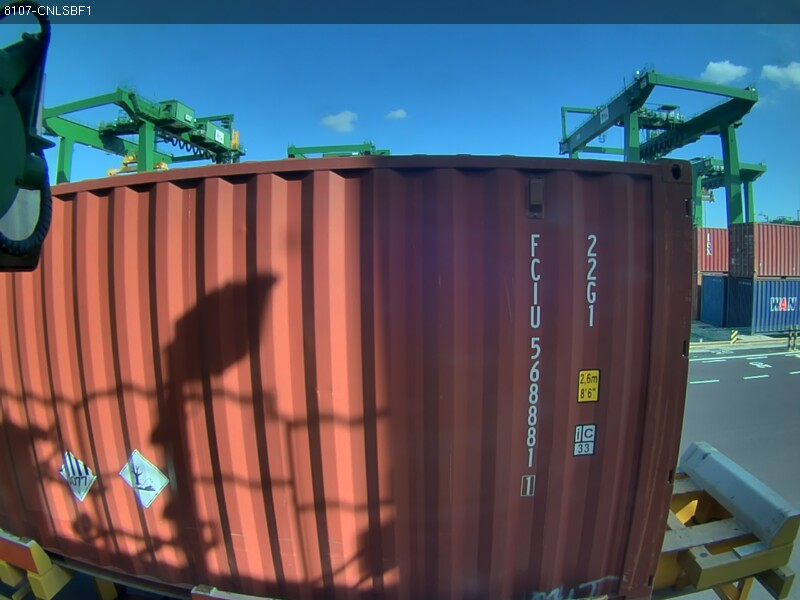container_no_door: (128, 153, 697, 572)
